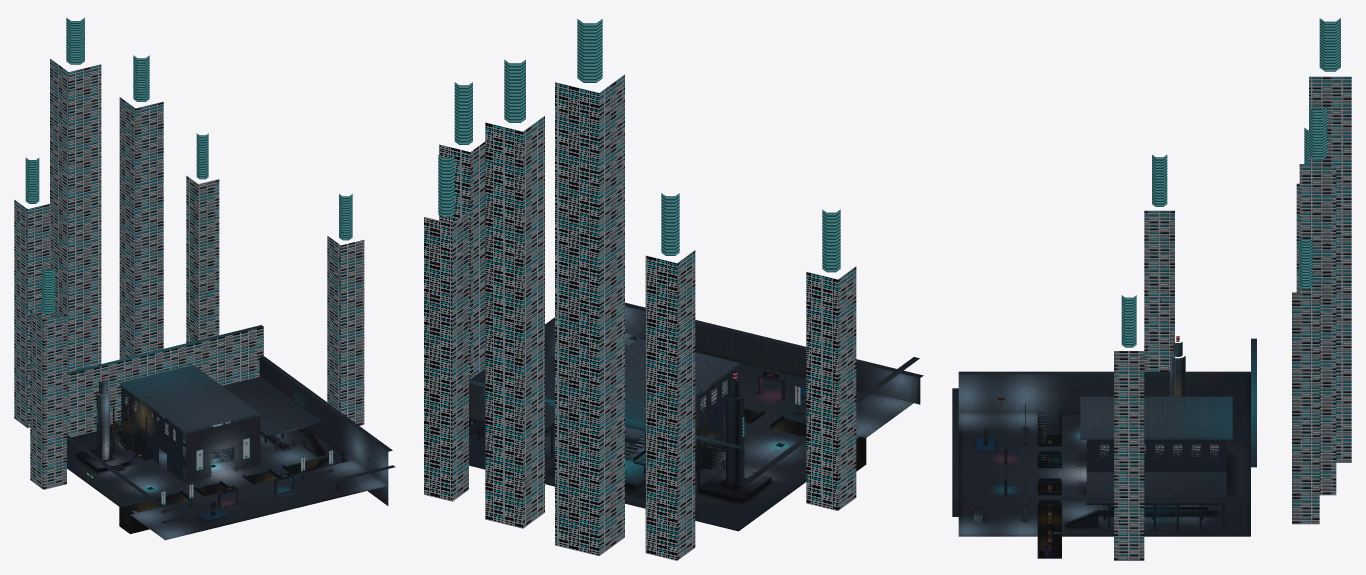
The model's file is muskerT.glb.
3 renders of one model, left to right at view 1: azimuth 30°, elevation 25°; view 2: azimuth 150°, elevation 25°; view 3: azimuth 270°, elevation 25°, orthographic. The views are drawn at different scales.
Visible parts, largest first — view 1: muskerT_spire, muskerT_white_tile, muskerT_white_panel, muskerT_white_wall, muskerT_neon_cyan, muskerT_trench_wall, muskerT_chrome, muskerT_rocket, muskerT_gantry, muskerT_grate, muskerT_banner, muskerT_metal (+1 smaller); view 2: muskerT_spire, muskerT_white_tile, muskerT_white_wall, muskerT_neon_cyan, muskerT_white_panel, muskerT_rocket, muskerT_chrome, muskerT_gantry, muskerT_trench_wall, muskerT_pad_metal; view 3: muskerT_spire, muskerT_white_tile, muskerT_white_panel, muskerT_white_wall, muskerT_neon_cyan, muskerT_trench_floor, muskerT_chrome, muskerT_rocket, muskerT_rail, muskerT_metal, muskerT_belt, muskerT_grate.
Boxes of the visible parts, x1,y1,x2,y2 form: muskerT_spire: [14, 58, 364, 489]; muskerT_white_tile: [67, 425, 387, 540]; muskerT_white_panel: [29, 325, 395, 523]; muskerT_white_wall: [121, 358, 388, 505]; muskerT_neon_cyan: [25, 18, 352, 515]; muskerT_trench_wall: [119, 452, 342, 532]; muskerT_chrome: [159, 414, 357, 515]; muskerT_rocket: [96, 381, 109, 460]; muskerT_gantry: [110, 403, 152, 464]; muskerT_grate: [110, 418, 326, 458]; muskerT_banner: [161, 438, 333, 504]; muskerT_metal: [128, 430, 326, 529]; muskerT_spire: [424, 74, 856, 560]; muskerT_white_tile: [469, 332, 913, 531]; muskerT_white_wall: [469, 306, 920, 463]; muskerT_neon_cyan: [438, 19, 866, 465]; muskerT_white_panel: [469, 302, 923, 486]; muskerT_rocket: [726, 379, 744, 486]; muskerT_chrome: [469, 335, 798, 491]; muskerT_gantry: [695, 407, 725, 489]; muskerT_trench_wall: [744, 408, 866, 465]; muskerT_pad_metal: [698, 468, 771, 498]; muskerT_spire: [1114, 76, 1351, 560]; muskerT_white_tile: [958, 413, 1250, 536]; muskerT_white_panel: [952, 338, 1256, 535]; muskerT_white_wall: [958, 374, 1250, 472]; muskerT_neon_cyan: [1053, 18, 1340, 506]; muskerT_trench_floor: [1037, 435, 1061, 558]; muskerT_chrome: [973, 403, 1226, 530]; muskerT_rocket: [1170, 342, 1185, 396]; muskerT_rail: [1039, 443, 1208, 509]; muskerT_metal: [1047, 505, 1220, 553]; muskerT_belt: [1047, 435, 1213, 551]; muskerT_grate: [1065, 510, 1220, 526].
Size of the model in its own units: 132 by 166 by 131.
Materials: 48 (48 with a texture image).
